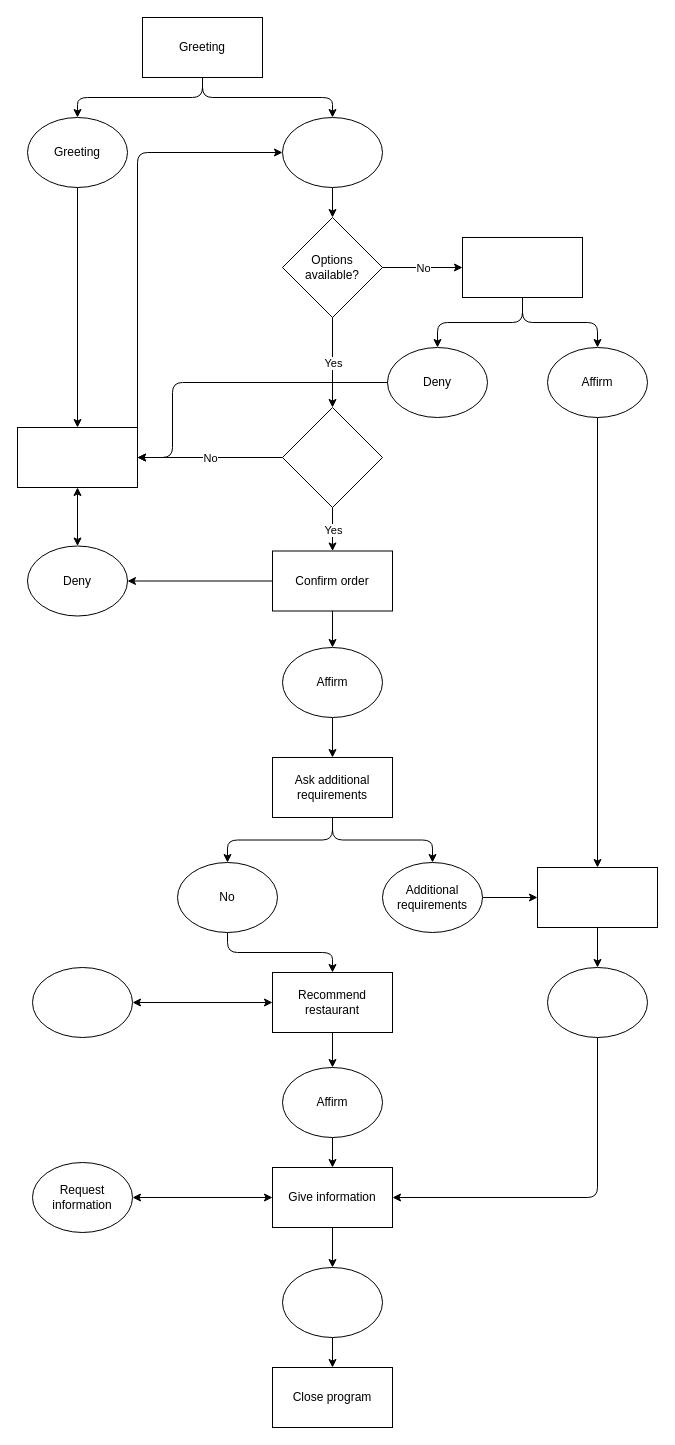
The diagram is 675 pixels wide and 1445 high, and some of its shapes have lost their labels. The box of each missing label's shape, as (x1, y1, x2, y2) in pixels:
Ask preferences: (16, 426, 138, 488)
Choose option: (546, 966, 648, 1038)
Give options: (536, 866, 658, 928)
Inform: (282, 116, 382, 188)
Order known?: (282, 406, 382, 508)
Request alternative: (32, 966, 132, 1038)
Thank / bye: (282, 1266, 382, 1338)
Want alternatives?: (462, 236, 582, 298)
